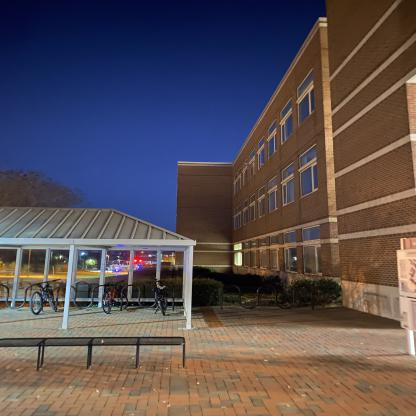eb2: (170, 4, 416, 335)
